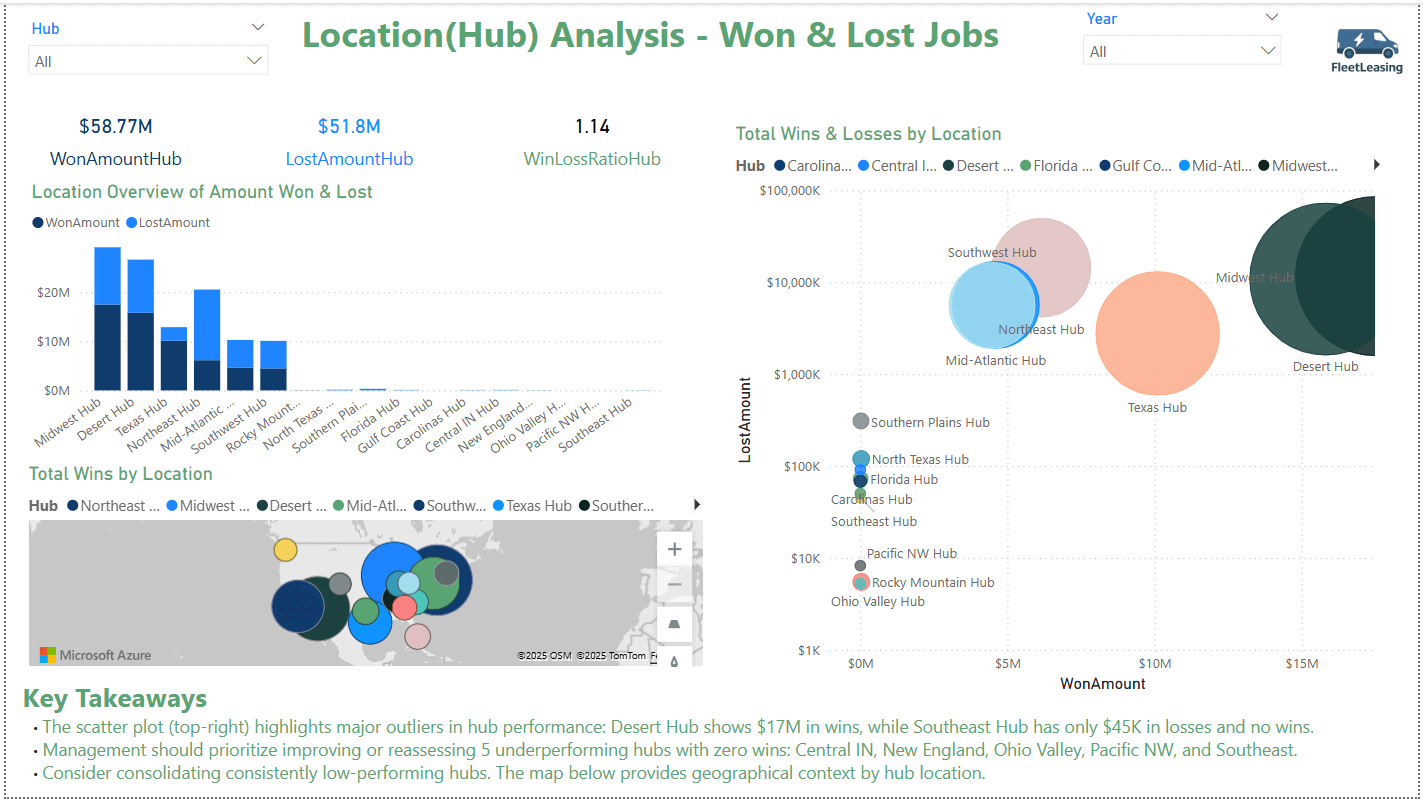

Layout of this report page (visuals, bound fields, positions):
{"tool":"powerbi","page":{"name":"Example: Small Multiples Hub","canvas":[1280,720],"ordinal":8},"visuals":[{"type":"clusteredColumnChart","title":"Location Overview of Amount Won & Lost","fields":{"Y":["_Measures.TotalWonAmount","_Measures.TotalLostAmount"],"Rows":["Location.Hub"]},"box":[12.2,193.3,1182.1,505.4],"z":0},{"type":"pageNavigator","box":[48.1,94.3,1202.4,49.9],"z":1000},{"type":"shape","box":[12.5,141.5,1258.3,12.5],"z":2000},{"type":"textbox","box":[232.5,9.8,719.5,58.7],"z":3000},{"type":"slicer","fields":{"Values":["DimDate.Date.Variation.Date Hierarchy.Year"]},"box":[892.3,9.7,184.7,52.6],"z":4000},{"type":"image","box":[1188.6,1,91.4,93.4],"z":5000}]}

Visuals, with their boxes in screenshot pixels (x1, y1, x2, y2), scaled from the page's 1280x720 canvas onto the 1423x801 screenshot:
"Location Overview of Amount Won & Lost" clusteredColumnChart: {"x1": 14, "y1": 215, "x2": 1328, "y2": 777}
pageNavigator: {"x1": 53, "y1": 105, "x2": 1390, "y2": 160}
shape: {"x1": 14, "y1": 157, "x2": 1413, "y2": 171}
textbox: {"x1": 258, "y1": 11, "x2": 1058, "y2": 76}
slicer - DimDate.Date.Variation.Date Hierarchy.Year: {"x1": 992, "y1": 11, "x2": 1197, "y2": 69}
image: {"x1": 1321, "y1": 1, "x2": 1422, "y2": 105}
